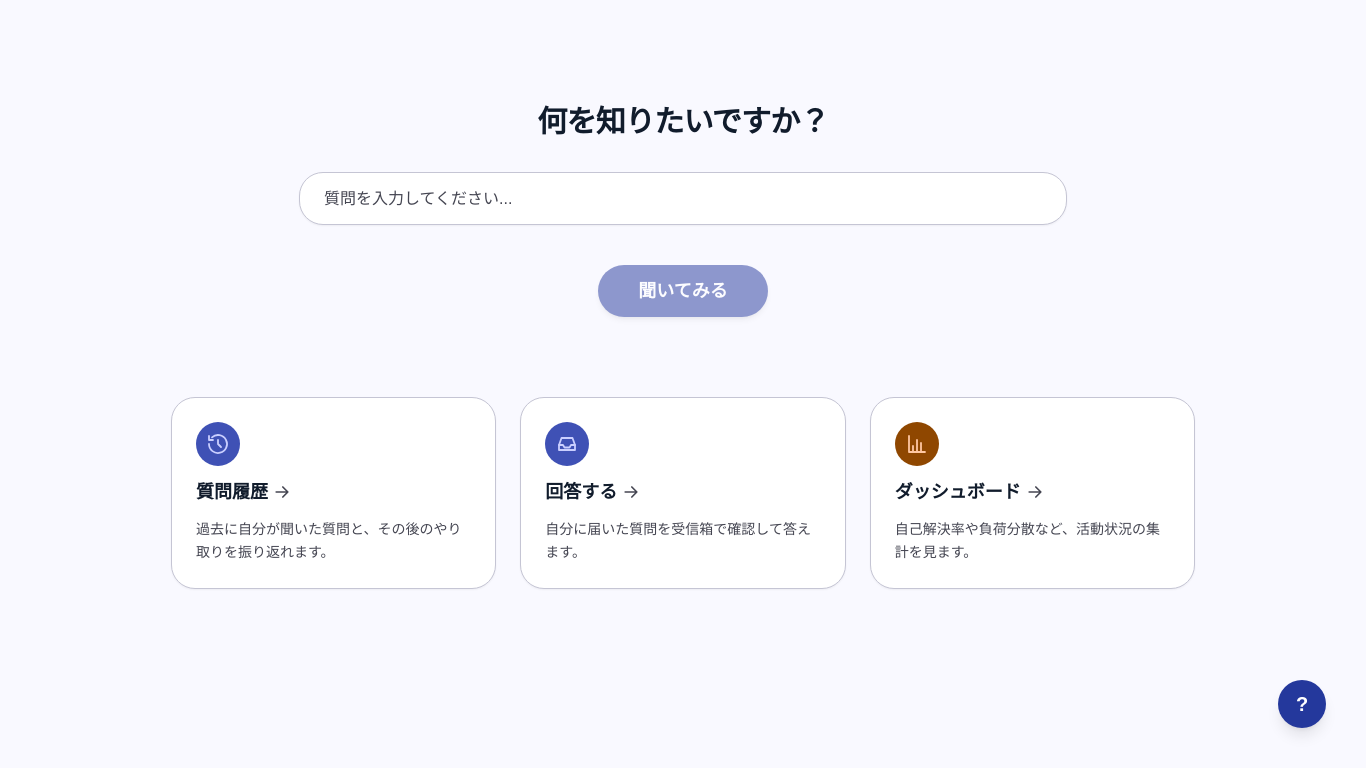
Test: HomePage (hub) › hides 使い方 behind a button and shows it in a dialog once opened (#392, #337)
Expected: the heading "使い方" is not shown
Click the button named "使い方を見る" at [1302, 704], box [1278, 680, 1326, 728]
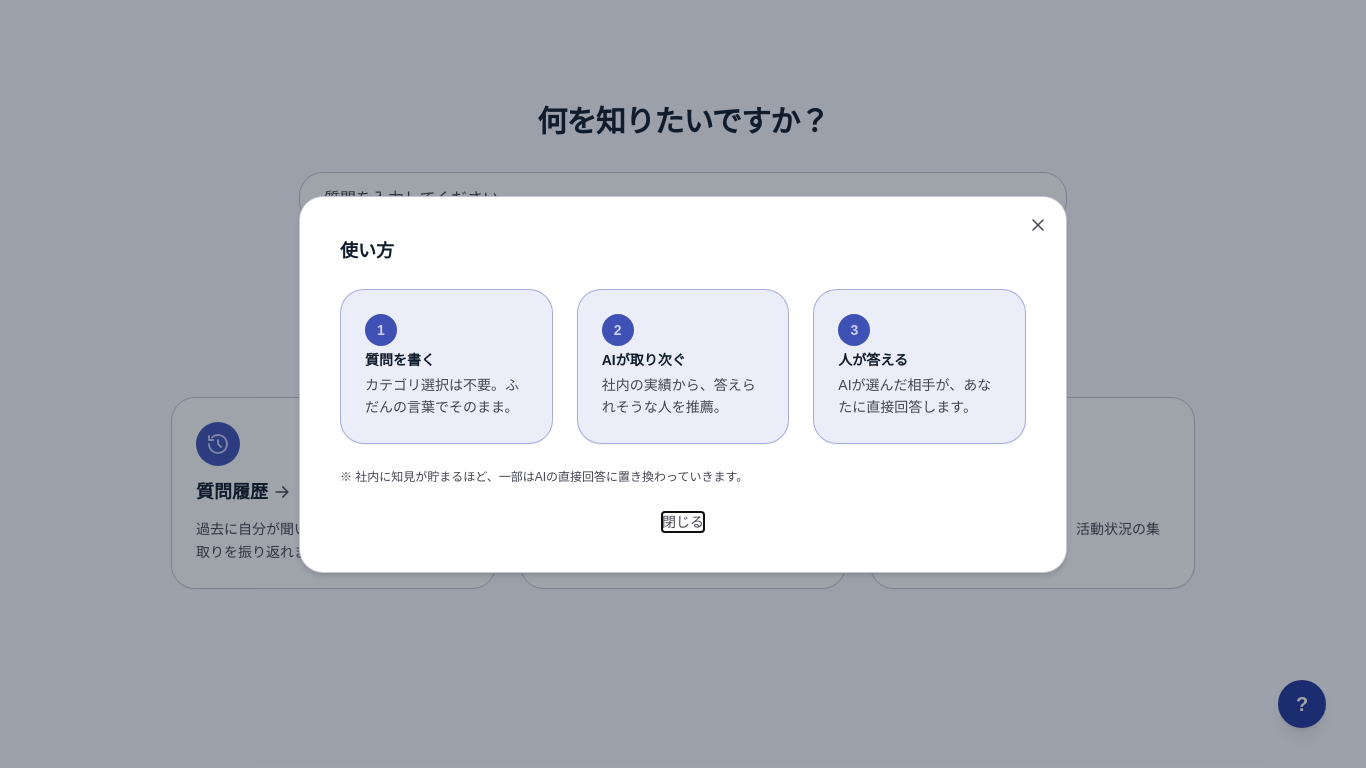
Now the heading "使い方" is shown, box [340, 240, 394, 260]
Now the text "※ 社内に知見が貯まるほど、一部はAIの直接回答に置き換わっていきます。" is shown, box [340, 470, 748, 484]
